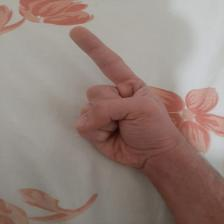one: (63, 23, 201, 175)
